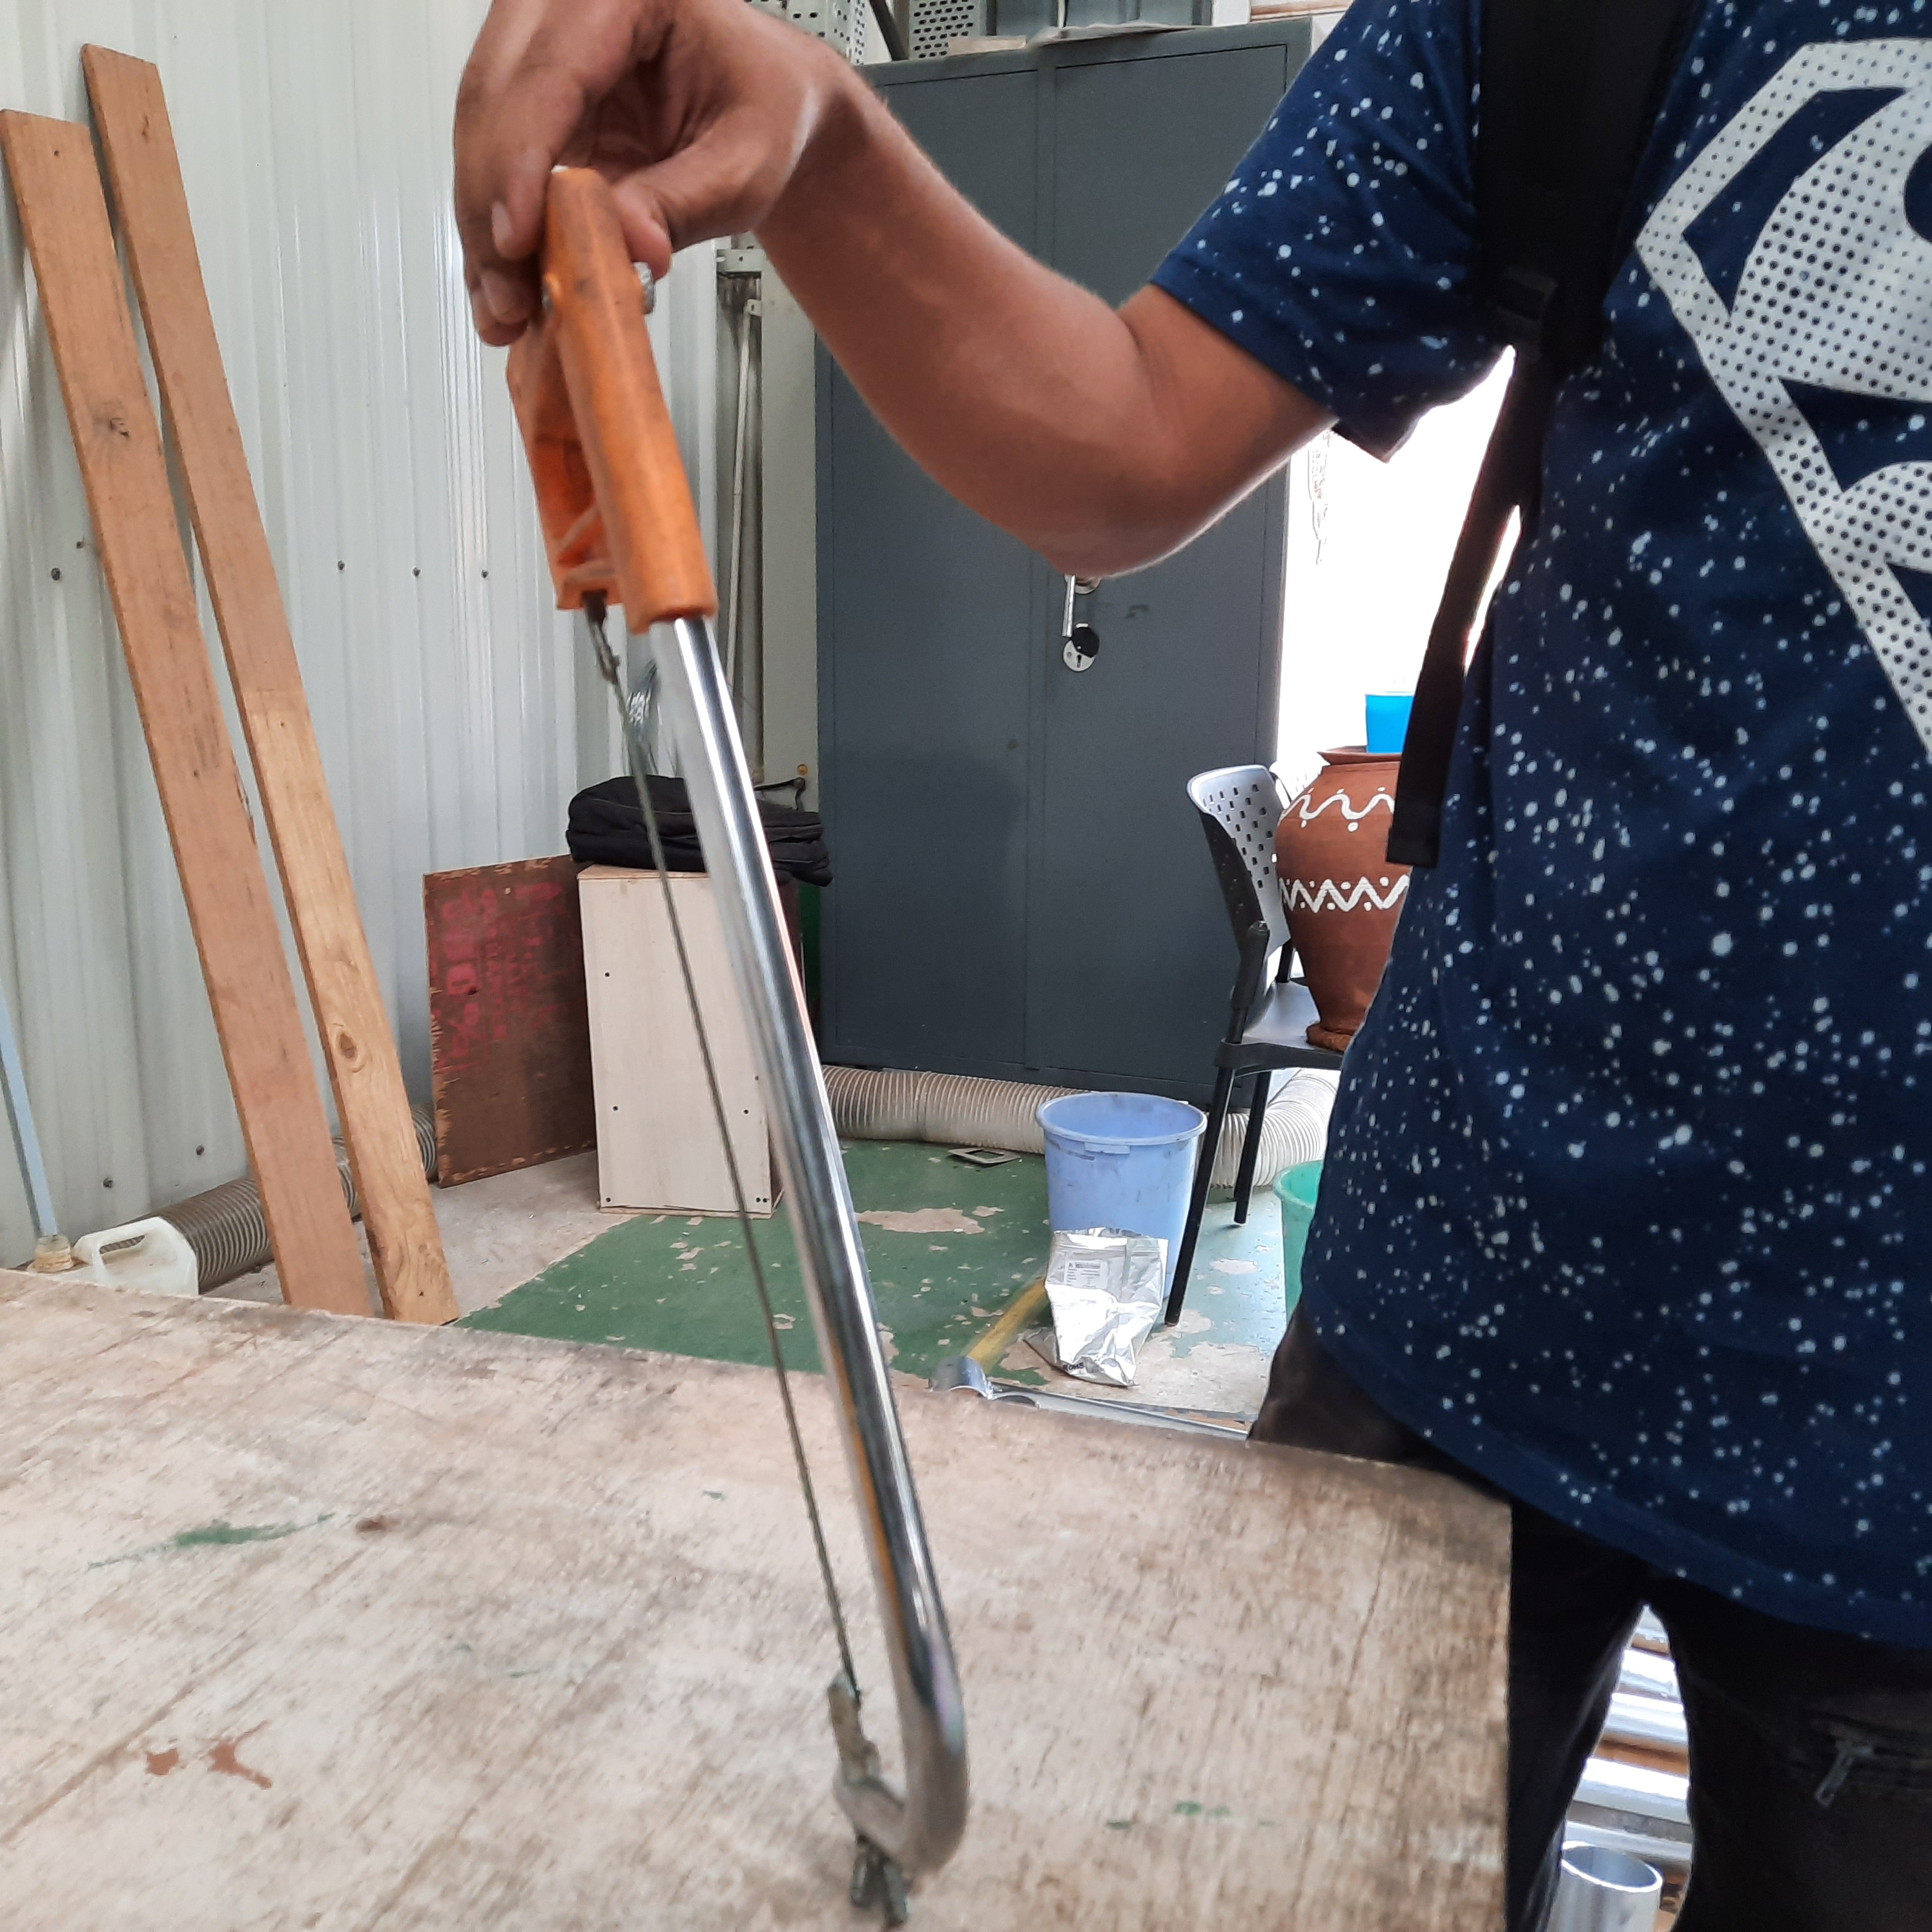Hexaframe: (400, 165, 1090, 1909)
